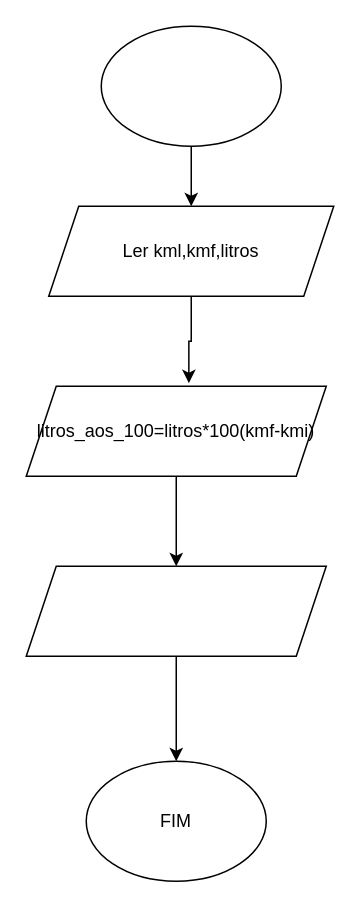
Image size: 360x908. Some labels were removed from this diagram. Here are the shapes that lost their labels. From the top down, the box of each, then its label:
(100, 25, 281, 146): INICIO
(25, 565, 326, 656): Escrever litros_aos_100
